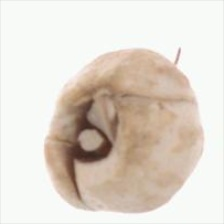L3: (64, 88, 117, 173)
L4: (43, 48, 204, 213)
